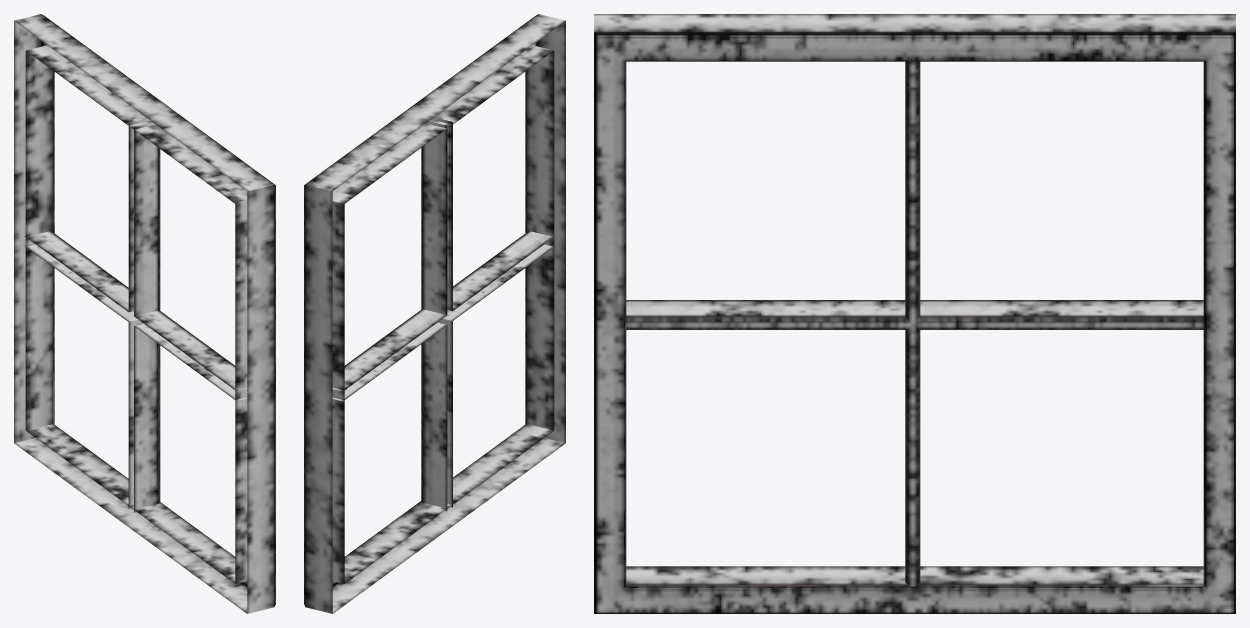
File: windowframe.fbx
The picture shows the model from 3 angles, left to right: view 1: azimuth 30°, elevation 25°; view 2: azimuth 150°, elevation 25°; view 3: azimuth 270°, elevation 25°; orthographic projection. The views are drawn at different scales.
Parts seen in each view (by area): view 1: WindowFrame; view 2: WindowFrame; view 3: WindowFrame.
Part boxes in pixels (<box>): WindowFrame: <box>14,14,275,613</box>; WindowFrame: <box>304,14,565,613</box>; WindowFrame: <box>594,14,1235,613</box>.
Bounding box in the file's own units: 8.35 × 113 × 113.
